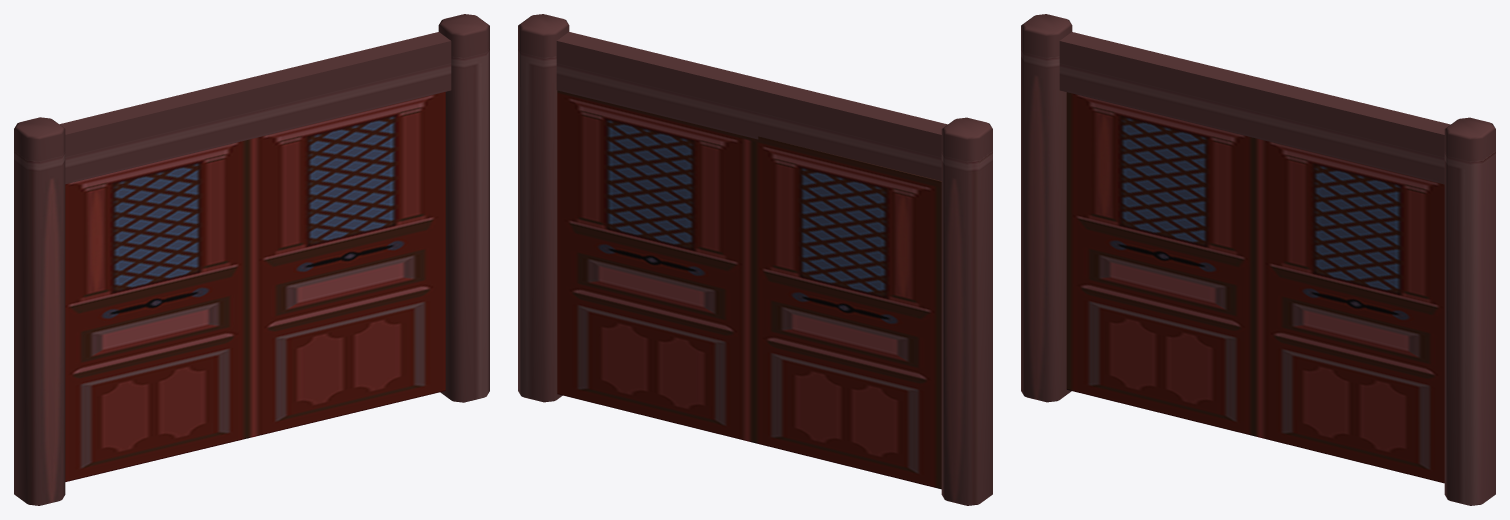
File: GATE 4.fbx
3 renders of one model, left to right at view 1: azimuth 30°, elevation 25°; view 2: azimuth 150°, elevation 25°; view 3: azimuth 330°, elevation 25°, orthographic.
Visible parts, largest first — view 1: pasted__polySurface6907_aiGate_M1_0.001, polySurface7370_aiGate_M1_0.005, polySurface7476_aiGate_M1_0.001; view 2: polySurface7476_aiGate_M1_0.001, polySurface7370_aiGate_M1_0.005, pasted__polySurface6907_aiGate_M1_0.001; view 3: pasted__polySurface6907_aiGate_M1_0.001, polySurface7476_aiGate_M1_0.001, polySurface7370_aiGate_M1_0.005.
Part boxes in pixels (x1,y1,x2,y2): pasted__polySurface6907_aiGate_M1_0.001: (14, 14, 489, 505); polySurface7370_aiGate_M1_0.005: (251, 92, 445, 437); polySurface7476_aiGate_M1_0.001: (65, 139, 251, 481); polySurface7476_aiGate_M1_0.001: (749, 136, 941, 489); polySurface7370_aiGate_M1_0.005: (557, 90, 749, 441); pasted__polySurface6907_aiGate_M1_0.001: (518, 14, 992, 505); pasted__polySurface6907_aiGate_M1_0.001: (1021, 14, 1495, 505); polySurface7476_aiGate_M1_0.001: (1066, 92, 1257, 436); polySurface7370_aiGate_M1_0.005: (1258, 139, 1444, 483).
Bounding box in the file's own units: 398 × 304 × 33.99.
Materials: 1 (1 with a texture image).
